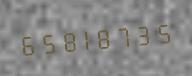eight: (97, 19, 116, 54), (57, 23, 76, 57)
five: (37, 25, 56, 59), (157, 14, 176, 48)
one: (77, 21, 96, 55)
seven: (117, 18, 136, 52)
six: (17, 26, 36, 61)
three: (137, 16, 156, 50)
